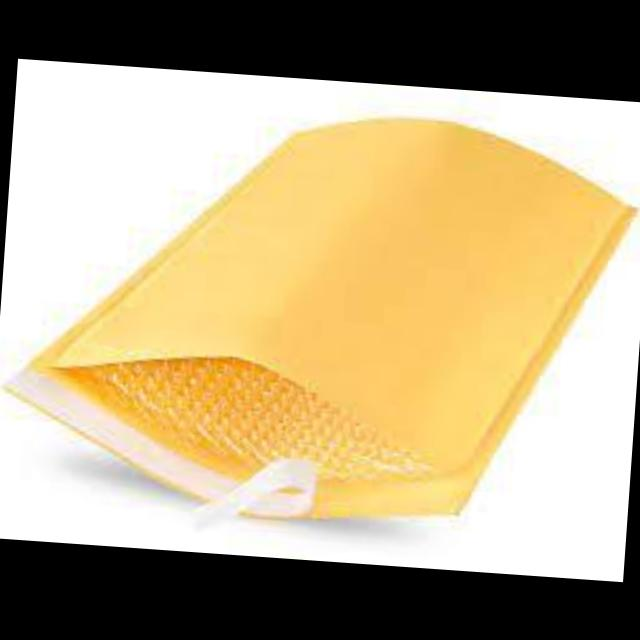mailer: (10, 119, 634, 515)
